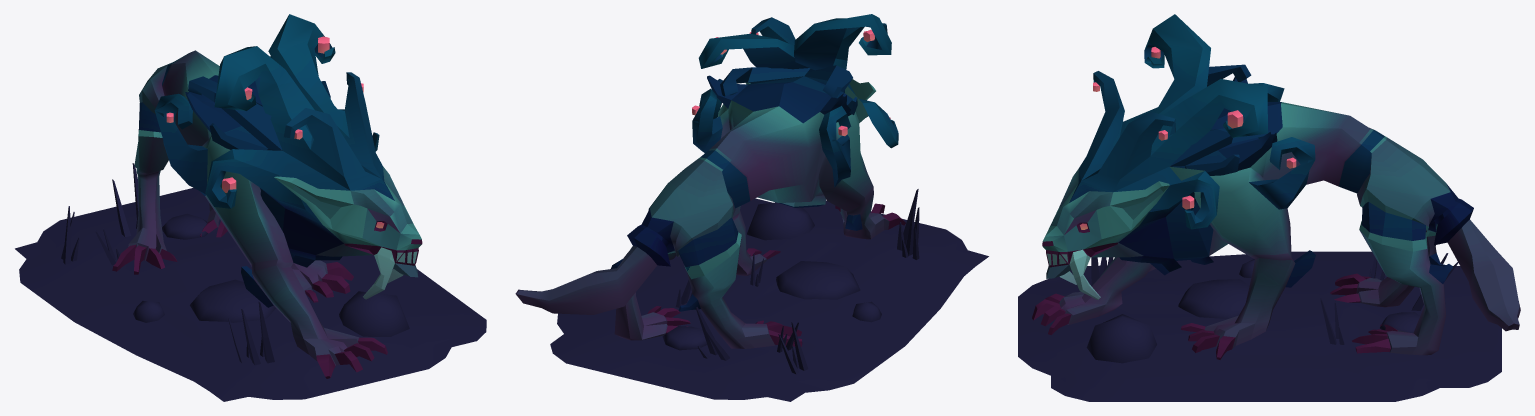
The model's file is Hunter.fbx.
The picture shows the model from 3 angles, left to right: view 1: azimuth 30°, elevation 25°; view 2: azimuth 150°, elevation 25°; view 3: azimuth 270°, elevation 25°; orthographic projection. The views are drawn at different scales.
Visible parts, largest first — view 1: pCube34, pasted__pasted__pCylinder37; view 2: pCube34, pasted__pasted__pCylinder37; view 3: pCube34, pasted__pasted__pCylinder37.
Part boxes in pixels (x1=…): pCube34: x1=112, y1=14, x2=422, y2=378; pasted__pasted__pCylinder37: x1=15, y1=163, x2=486, y2=401; pCube34: x1=515, y1=14, x2=905, y2=348; pasted__pasted__pCylinder37: x1=550, y1=189, x2=988, y2=401; pCube34: x1=1032, y1=14, x2=1520, y2=359; pasted__pasted__pCylinder37: x1=1018, y1=251, x2=1501, y2=401.
Bounding box in the file's own units: 5.99 × 5.78 × 8.46.
